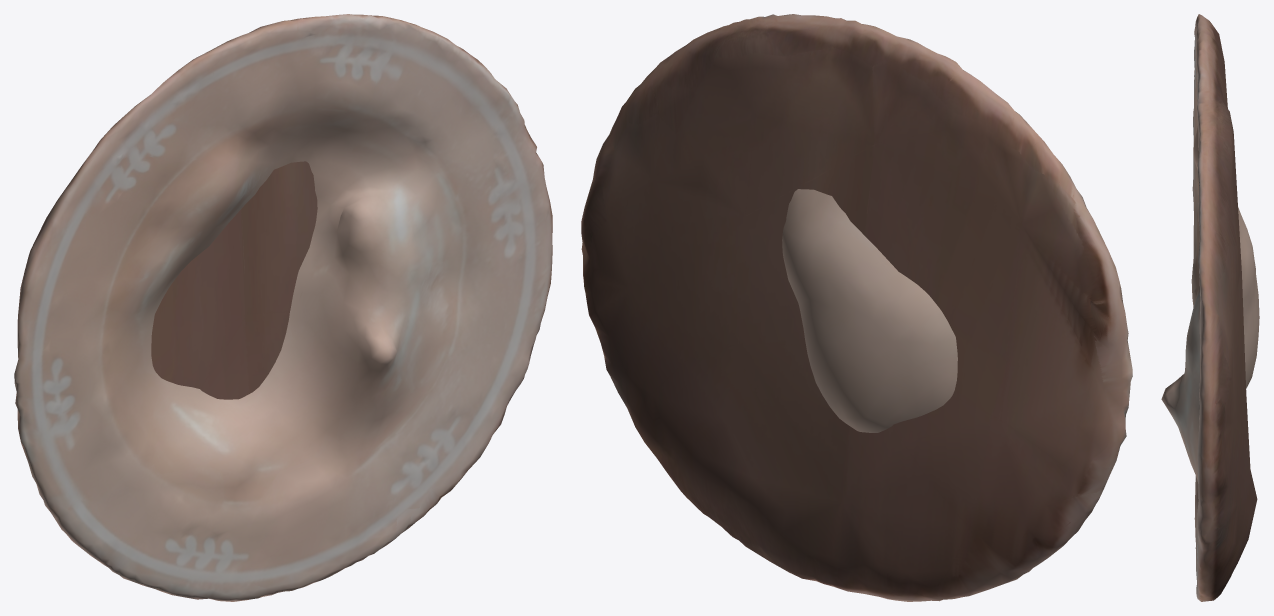
Rendered from pink_plate_small.obj.
3 views of the same model, side by side, from view 1: azimuth 30°, elevation 25°; view 2: azimuth 150°, elevation 25°; view 3: azimuth 270°, elevation 25° (orthographic). The views are drawn at different scales.
Visible parts, largest first — view 1: obj1; view 2: obj1; view 3: obj1.
Boxes of the visible parts, x1,y1,x2,y2 form: obj1: (14,14,552,601); obj1: (581,14,1132,601); obj1: (1161,14,1259,601).
Size of the model in its own units: 0.1076 by 0.1078 by 0.018.
1 material, 1 textured.
